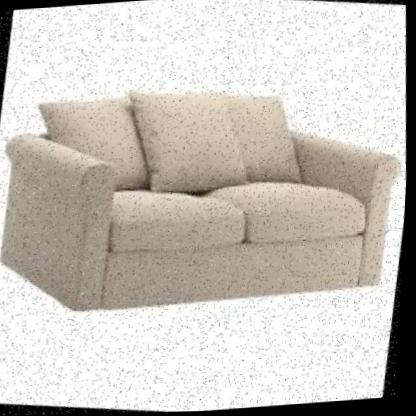Sofa: (0, 24, 415, 387)
